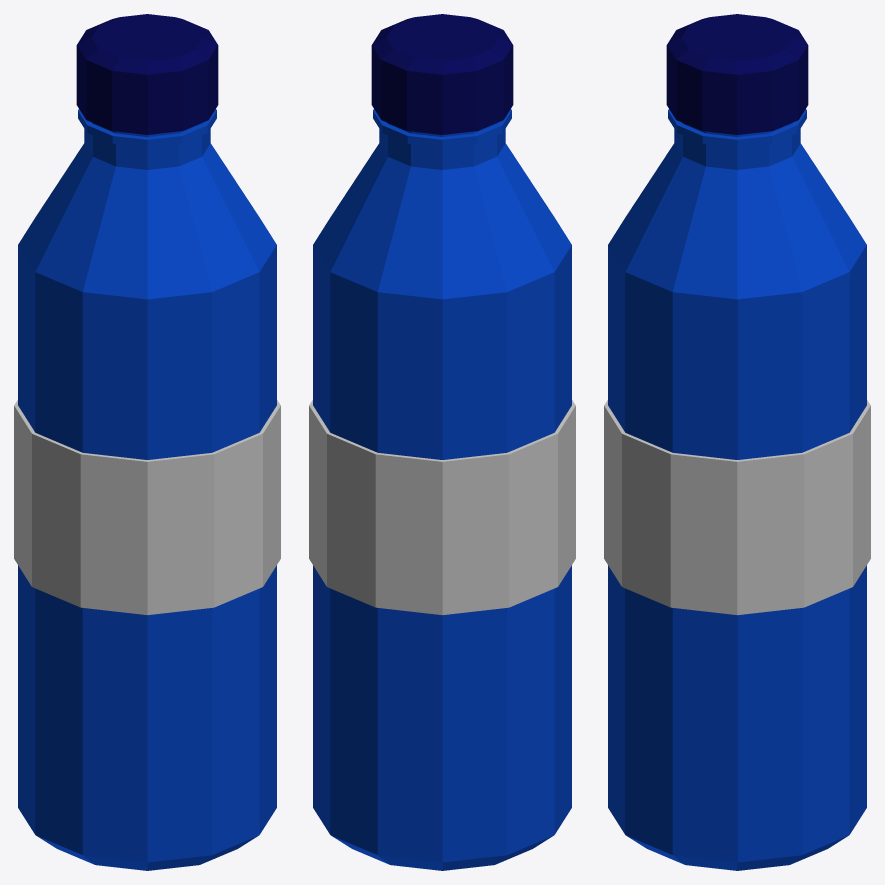
The model's file is water bottle 1.obj.
3 renders of one model, left to right at view 1: azimuth 30°, elevation 25°; view 2: azimuth 150°, elevation 25°; view 3: azimuth 270°, elevation 25°, orthographic.
Visible parts, largest first — view 1: Cylinder, Cylinder.001; view 2: Cylinder, Cylinder.001; view 3: Cylinder, Cylinder.001.
Part boxes in pixels (bbox=[...]): Cylinder: bbox=[14, 109, 280, 870]; Cylinder.001: bbox=[76, 14, 218, 134]; Cylinder: bbox=[309, 109, 575, 870]; Cylinder.001: bbox=[371, 14, 513, 134]; Cylinder: bbox=[604, 109, 870, 870]; Cylinder.001: bbox=[666, 14, 808, 134].
Bounding box in the file's own units: 2.73 × 8.92 × 2.73.
